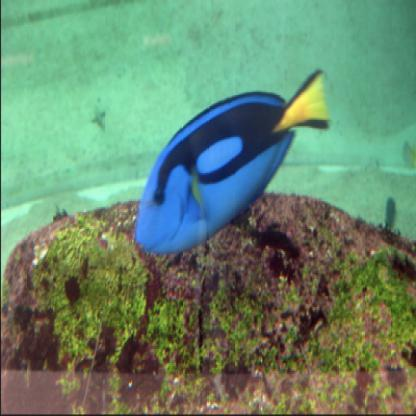Bio: (134, 64, 329, 256)
